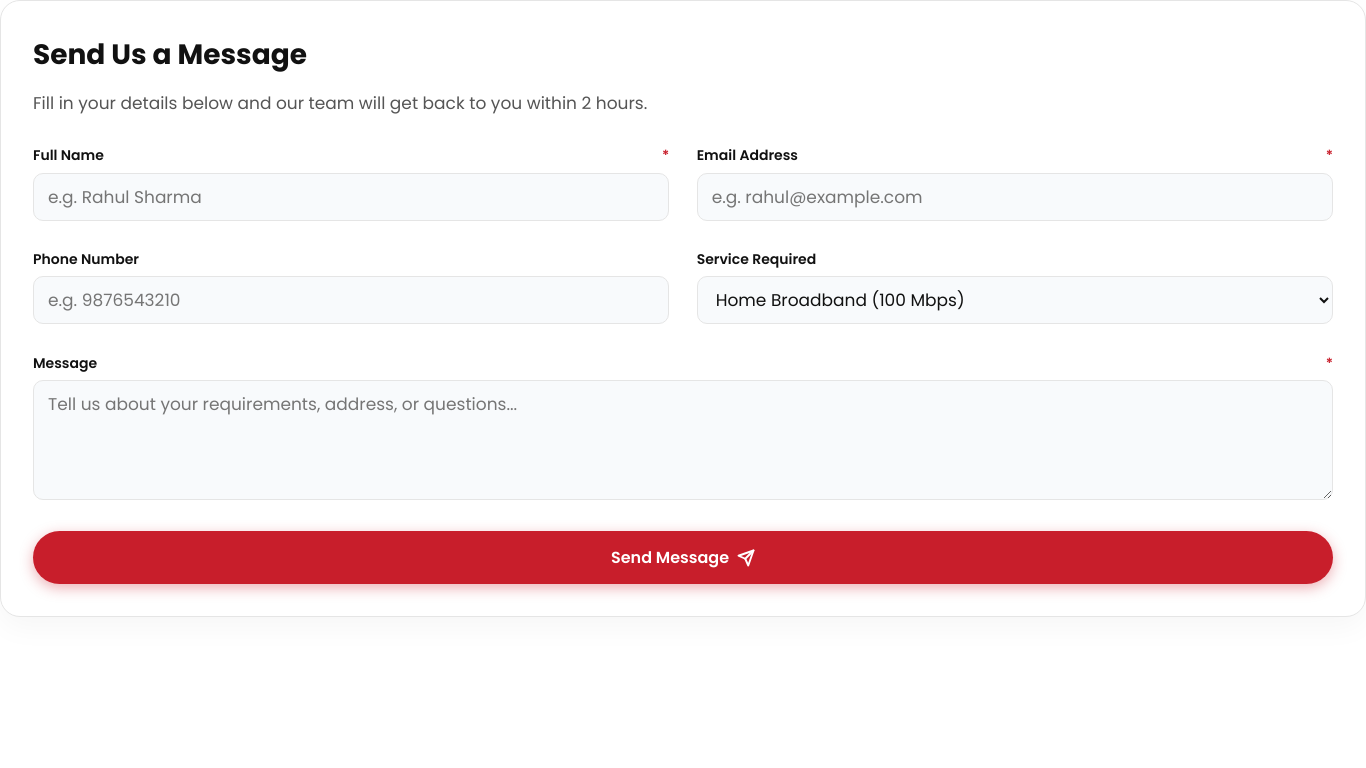
Test case: ContactForm Component › submits form data to contact endpoint and displays success alert on success
Type "Rahul Sharma" into the field labelled "Full Name *". click: (351, 197)
box: [33, 173, 669, 221]
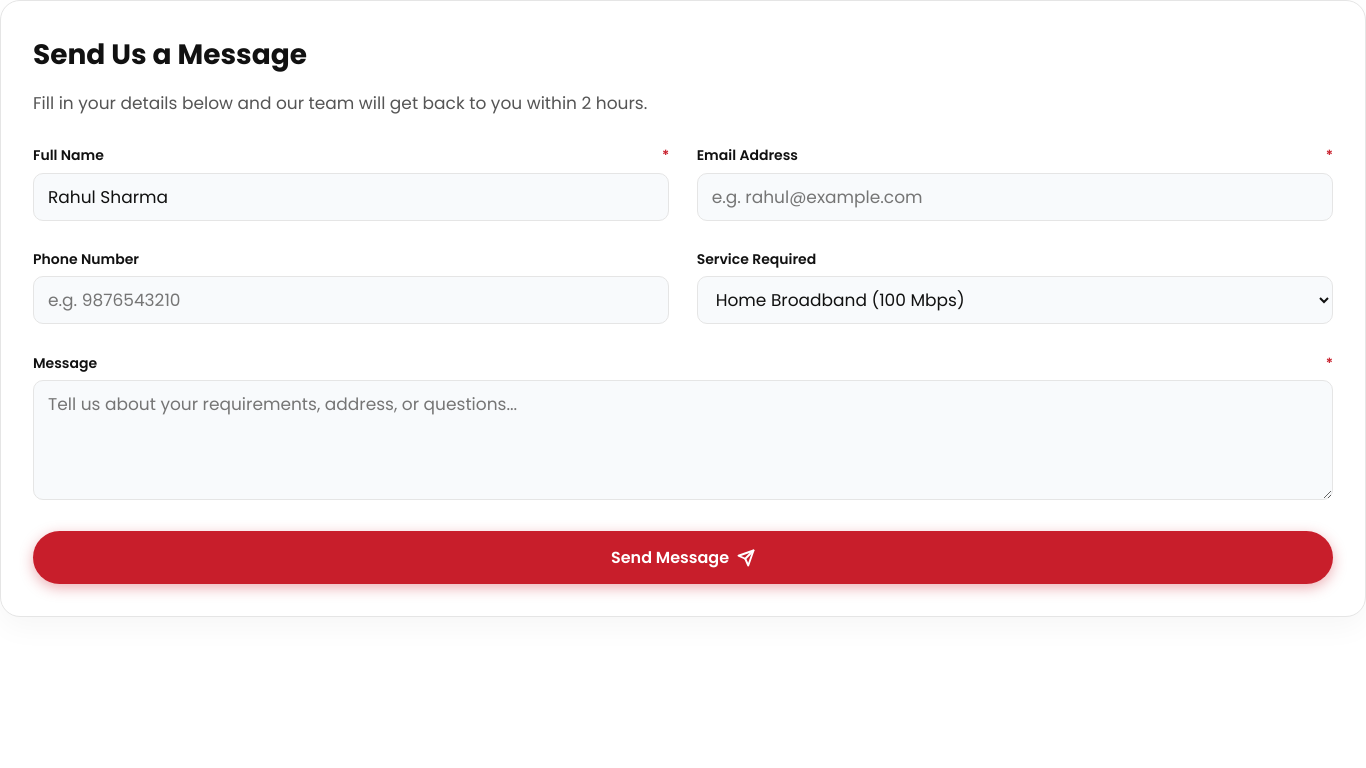
Type "rahul@example.com" into the field labelled "Email Address *". click: (1015, 197)
box: [697, 173, 1333, 221]
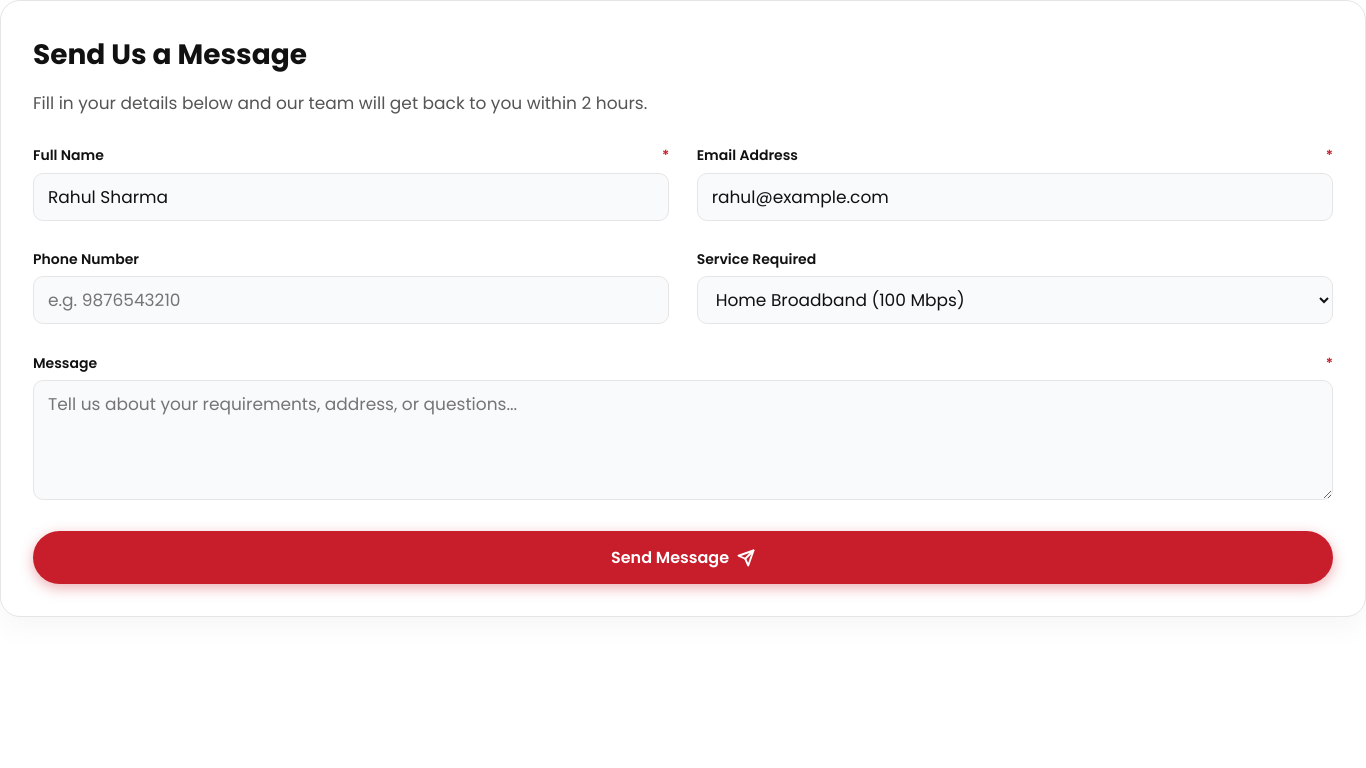
Type "9876543210" into the field labelled "Phone Number". click: (351, 300)
box: [33, 276, 669, 324]
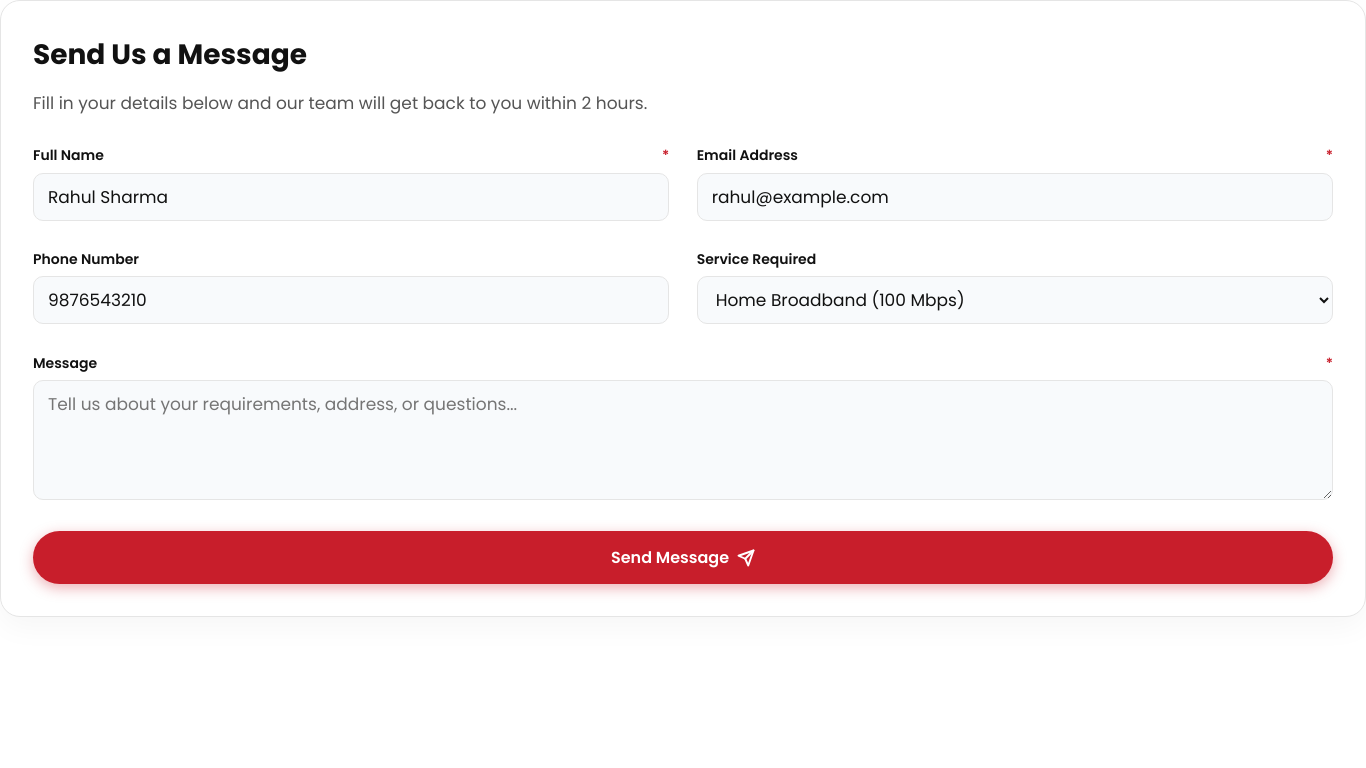
Select "Home Broadband (100 Mbps)" in the dropdown labelled "Service Required". click: (1015, 300)
box: [697, 276, 1333, 324]
Type "Please check connection availability at Rajpur Road." into the text box labelled "Message *". click: (683, 440)
box: [33, 380, 1333, 500]
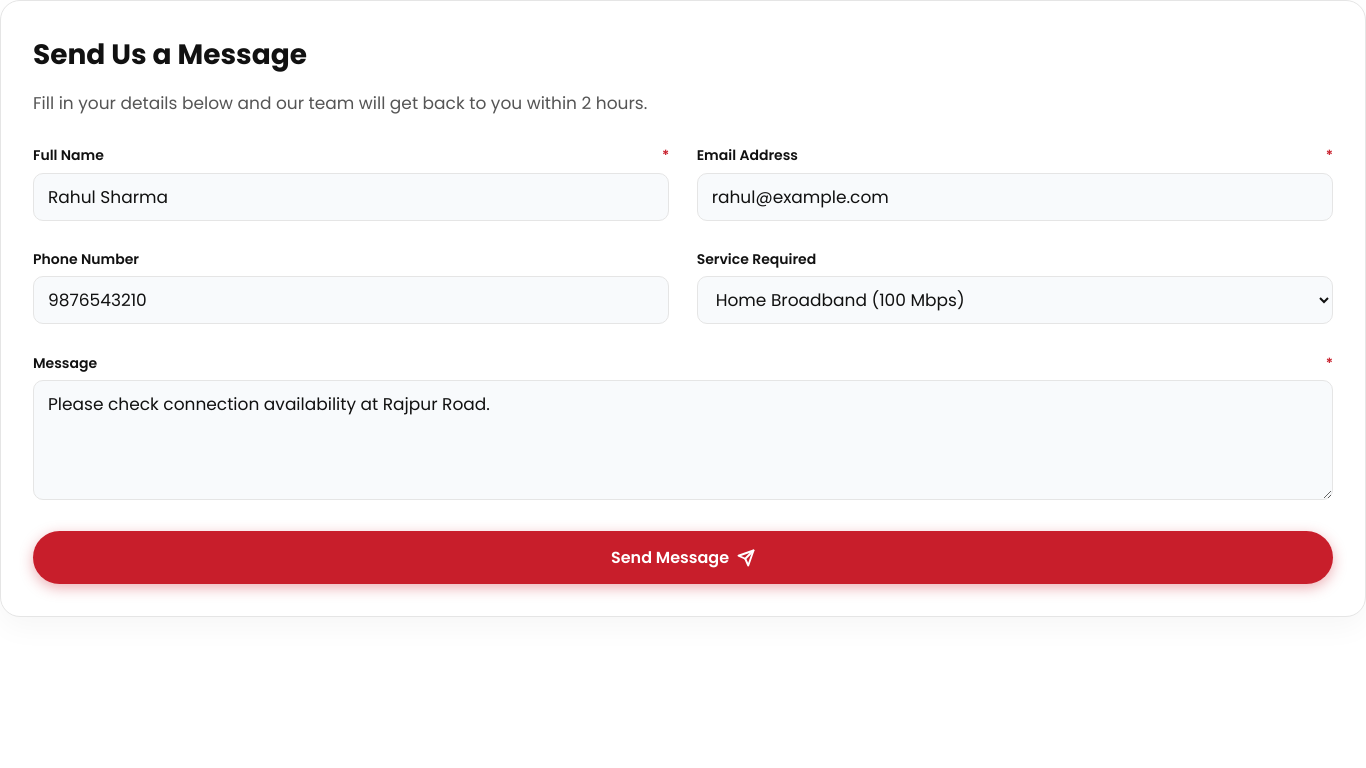
Click the button "Send Message". click: (683, 558)
box: [33, 531, 1333, 584]
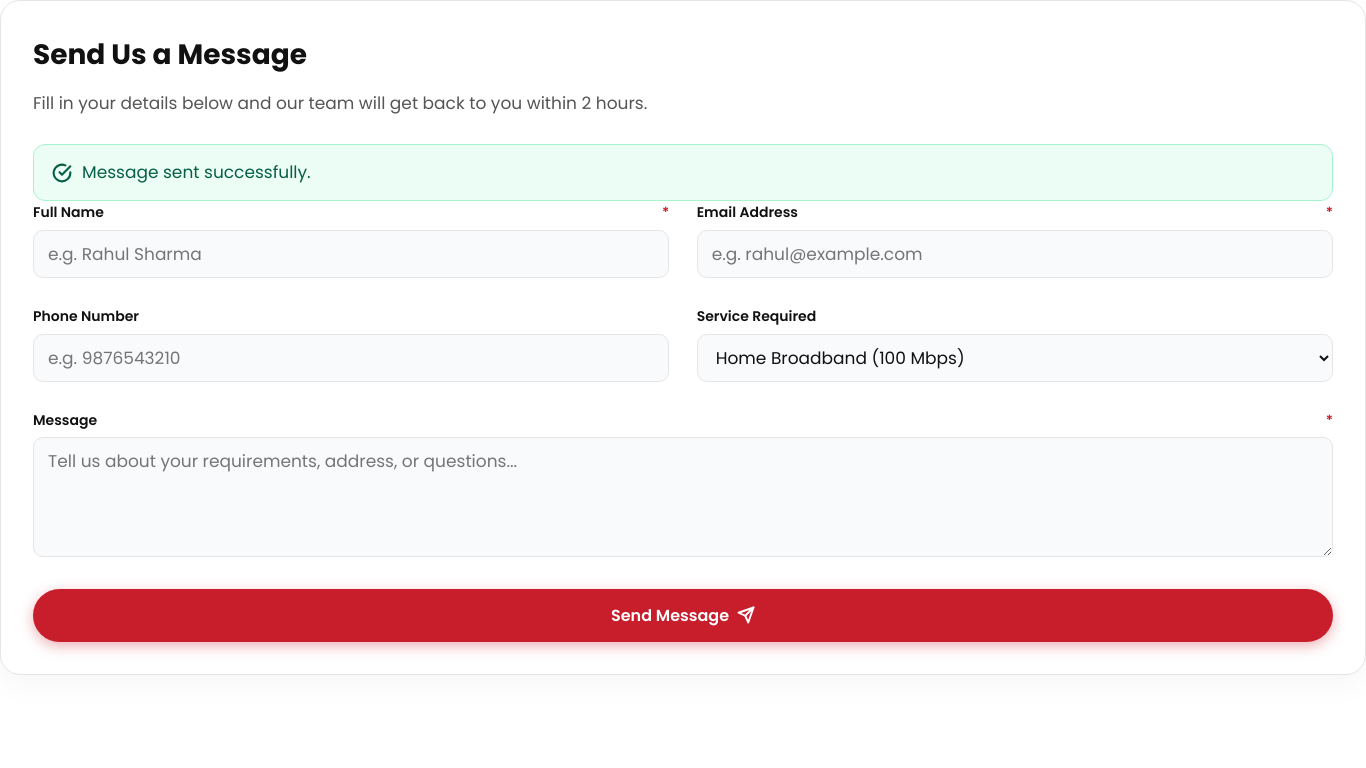
Check: the text "Message sent successfully." is shown, box [82, 159, 311, 186]
